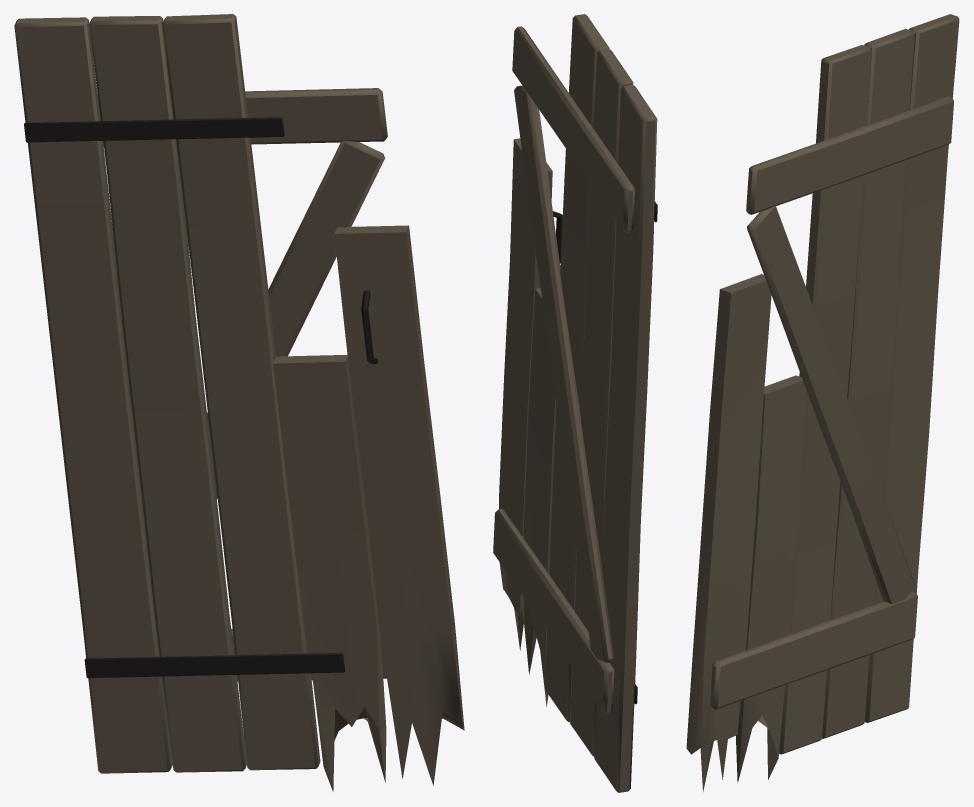
The model's file is tuer_alt_kaputt.glb.
The picture shows the model from 3 angles, left to right: view 1: azimuth 30°, elevation 25°; view 2: azimuth 150°, elevation 25°; view 3: azimuth 270°, elevation 25°; orthographic projection. The views are drawn at different scales.
Parts seen in each view (by area): view 1: tuer_alt_kaputt; view 2: tuer_alt_kaputt; view 3: tuer_alt_kaputt.
Boxes of the visible parts, left/top/right/bottom form: tuer_alt_kaputt: left=14, top=14, right=464, bottom=791; tuer_alt_kaputt: left=493, top=14, right=657, bottom=792; tuer_alt_kaputt: left=686, top=14, right=959, bottom=791.
Size of the model in its own units: 0.7478 by 1.8 by 0.6445.
